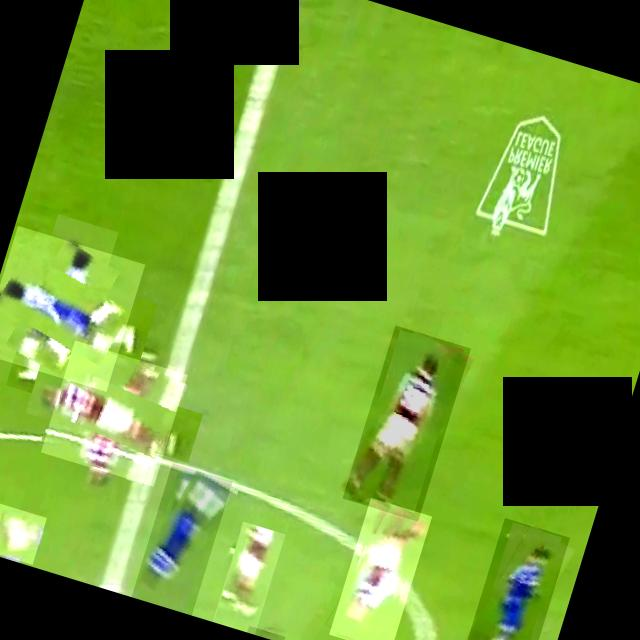referee: (246, 625, 284, 640)
soccer-player: (342, 325, 470, 521), (0, 225, 144, 391), (40, 341, 187, 486), (131, 463, 232, 615), (328, 497, 431, 640), (457, 517, 569, 640), (212, 522, 285, 634), (0, 503, 46, 564)
